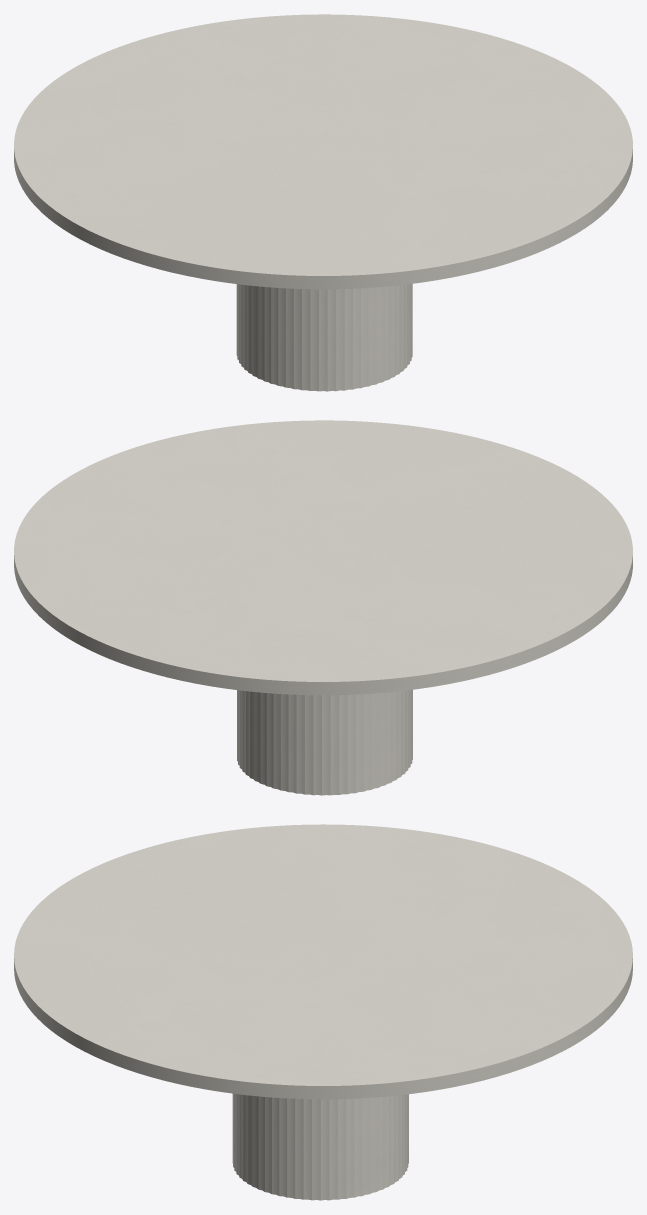
The model's file is pale_round_standard_ripple.glb.
The picture shows the model from 3 angles, top to bottom: view 1: azimuth 30°, elevation 25°; view 2: azimuth 150°, elevation 25°; view 3: azimuth 270°, elevation 25°; orthographic projection.
Visible parts, largest first — view 1: standard_round, ripple; view 2: standard_round, ripple; view 3: standard_round, ripple.
Part boxes in pixels (x1,y1,x2,y2): standard_round: (14, 14, 632, 289); ripple: (236, 284, 412, 391); standard_round: (14, 420, 632, 695); ripple: (237, 689, 412, 795); standard_round: (14, 824, 632, 1099); ripple: (232, 1093, 408, 1200).
Bounding box in the file's own units: 6.75 × 2.5 × 6.75.
Materials: 1 (1 with a texture image).
